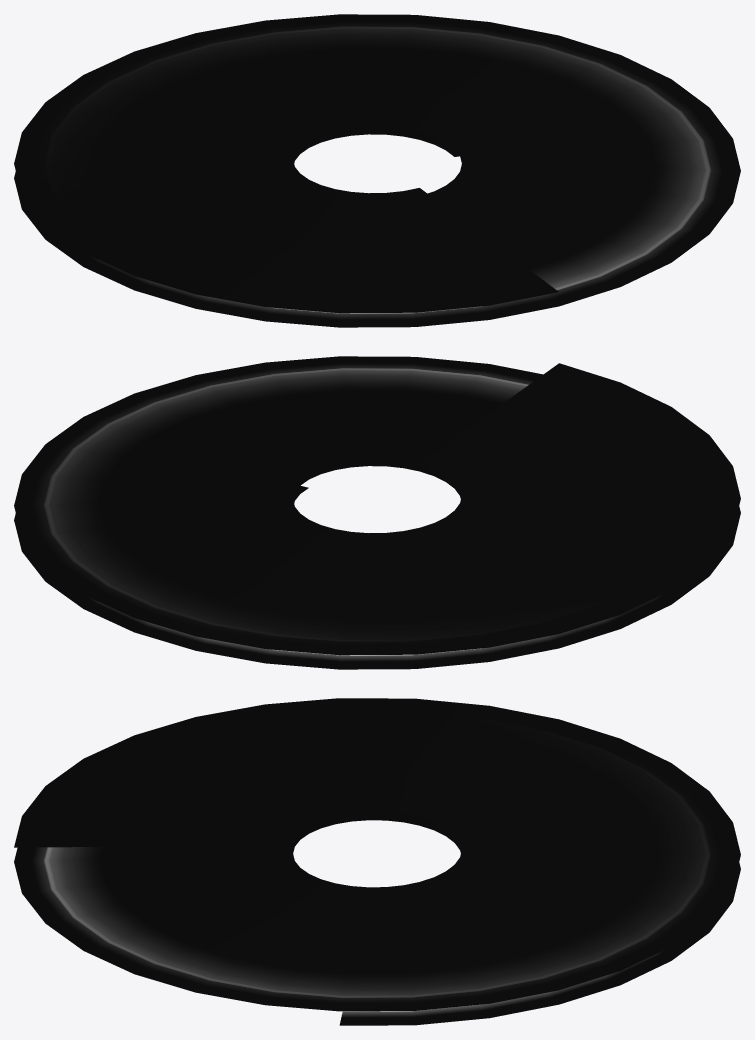
The model's file is daoguangC01.fbx.
3 renders of one model, top to bottom at view 1: azimuth 30°, elevation 25°; view 2: azimuth 150°, elevation 25°; view 3: azimuth 270°, elevation 25°, orthographic.
Visible parts, largest first — view 1: daoguangC01; view 2: daoguangC01; view 3: daoguangC01.
Part boxes in pixels (x1,y1,x2,y2): daoguangC01: [14, 14, 740, 327]; daoguangC01: [14, 356, 740, 669]; daoguangC01: [14, 698, 740, 1025].
Size of the model in its own units: 4.03 by 0.1694 by 4.05.
1 material, 1 textured.
